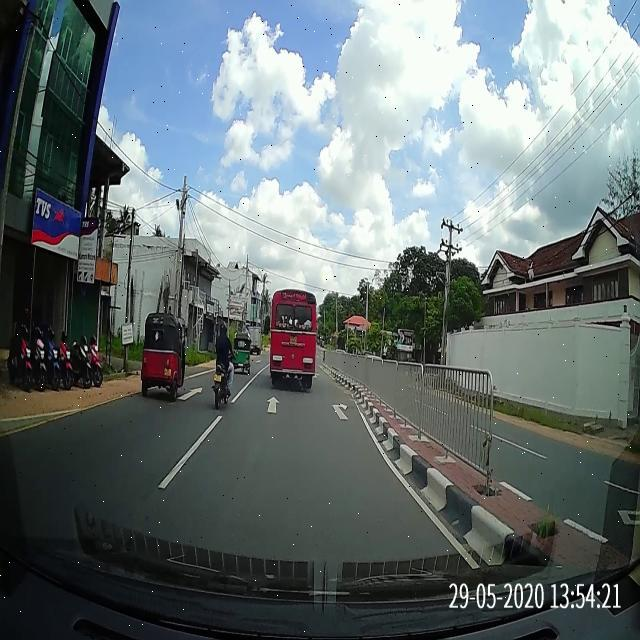forward: (219, 391, 337, 430)
